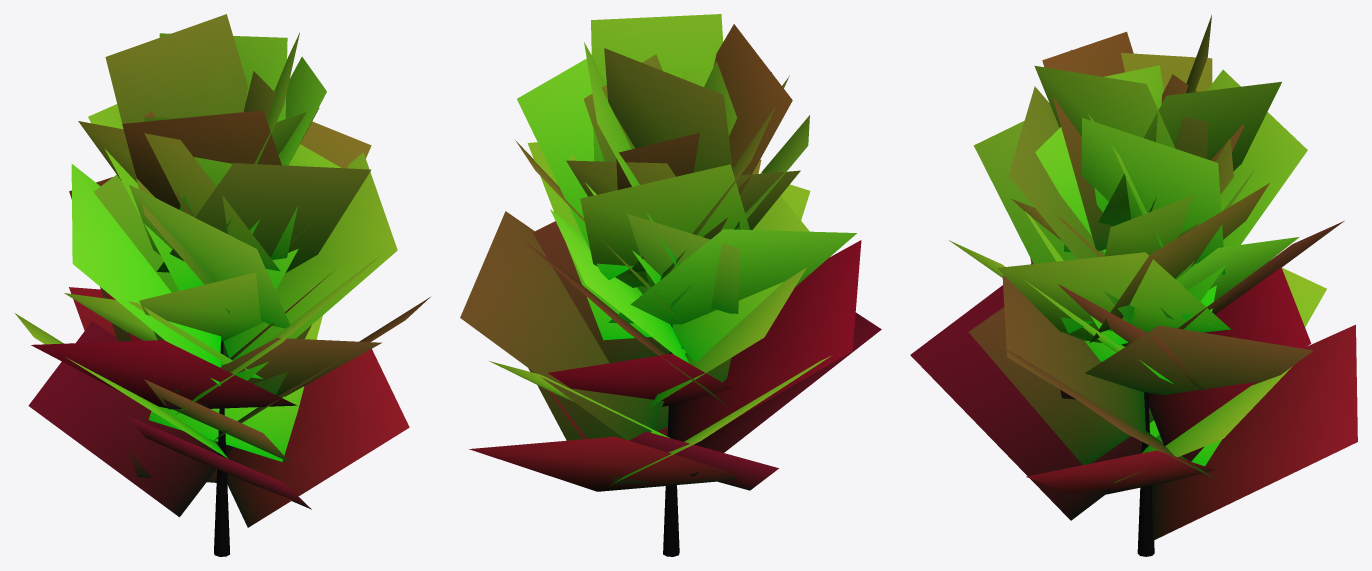
Rendered from Bush_1_2.fbx.
3 views of the same model, side by side, from view 1: azimuth 30°, elevation 25°; view 2: azimuth 150°, elevation 25°; view 3: azimuth 270°, elevation 25° (orthographic). The views are drawn at different scales.
Parts seen in each view (by area): view 1: Bush_1_2; view 2: Bush_1_2; view 3: Bush_1_2.
Boxes of the visible parts, left/top/right/bottom form: Bush_1_2: left=15, top=14, right=430, bottom=556; Bush_1_2: left=460, top=14, right=881, bottom=556; Bush_1_2: left=910, top=15, right=1357, bottom=556.
Bounding box in the file's own units: 460 × 582 × 460.
